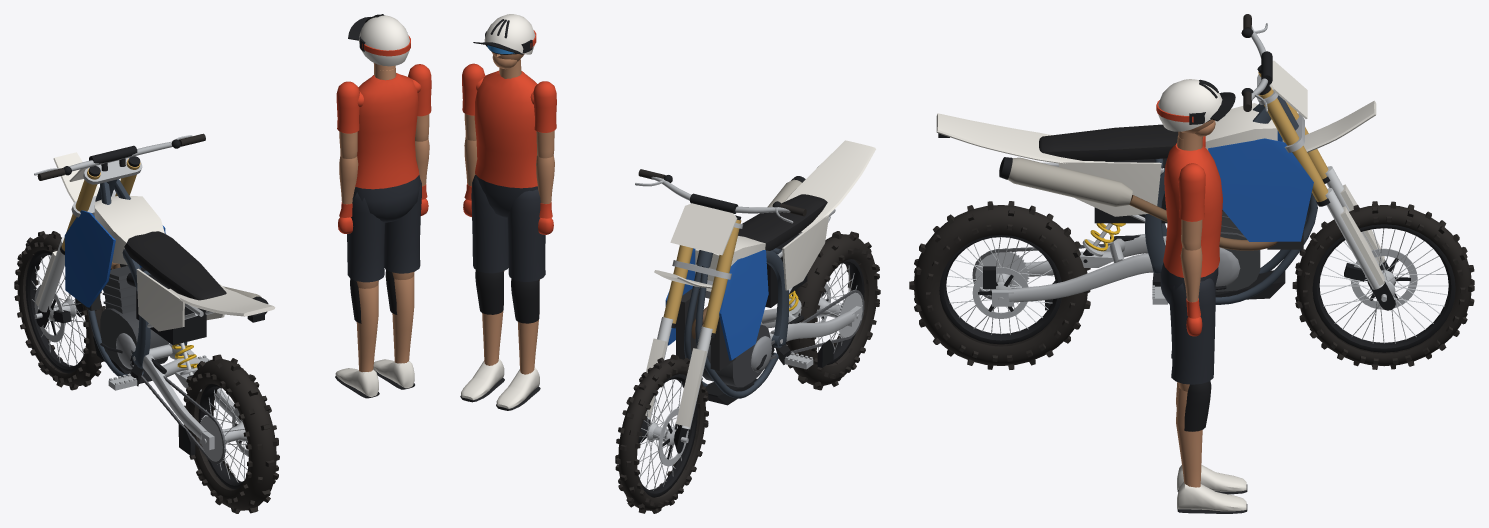
Rendered from moto.glb.
3 renders of one model, left to right at view 1: azimuth 30°, elevation 25°; view 2: azimuth 150°, elevation 25°; view 3: azimuth 270°, elevation 25°, orthographic. The views are drawn at different scales.
Parts seen in each view (by area): view 1: frame, wheel_rear, r_torso, wheel_front, steer, swingarm, r_thigh_l, r_head, r_thigh_r, r_shin_r, r_shin_l, r_upperarm_l (+8 smaller); view 2: frame, wheel_front, wheel_rear, r_torso, steer, r_thigh_l, fork_lowers, r_thigh_r, r_head, r_shin_l, r_shin_r, swingarm (+7 smaller); view 3: frame, wheel_rear, wheel_front, steer, r_torso, swingarm, r_thigh_r, r_head, fork_lowers, r_shin_r, r_upperarm_r, r_foot_r (+3 smaller).
Boxes of the visible parts, bbox=[...] form: frame: bbox=[64, 179, 275, 386]; wheel_rear: bbox=[183, 354, 279, 513]; r_torso: bbox=[353, 67, 421, 222]; wheel_front: bbox=[14, 231, 105, 390]; steer: bbox=[34, 133, 205, 254]; swingarm: bbox=[142, 343, 240, 455]; r_thigh_l: bbox=[347, 192, 385, 288]; r_head: bbox=[348, 14, 410, 78]; r_thigh_r: bbox=[384, 177, 421, 279]; r_shin_r: bbox=[385, 270, 414, 363]; r_shin_l: bbox=[350, 278, 378, 372]; r_upperarm_l: bbox=[336, 81, 359, 158]; frame: bbox=[665, 140, 875, 405]; wheel_front: bbox=[615, 354, 708, 513]; wheel_rear: bbox=[786, 231, 880, 390]; r_torso: bbox=[474, 70, 537, 218]; steer: bbox=[635, 169, 806, 337]; r_thigh_l: bbox=[507, 189, 545, 281]; fork_lowers: bbox=[638, 317, 712, 453]; r_thigh_r: bbox=[471, 175, 508, 273]; r_head: bbox=[473, 14, 536, 78]; r_shin_l: bbox=[511, 278, 539, 374]; r_shin_r: bbox=[475, 270, 503, 365]; swingarm: bbox=[760, 290, 861, 367]; frame: bbox=[936, 95, 1317, 304]; wheel_rear: bbox=[909, 201, 1090, 369]; wheel_front: bbox=[1292, 201, 1474, 369]; steer: bbox=[1241, 14, 1376, 206]; r_torso: bbox=[1160, 135, 1222, 303]; swingarm: bbox=[983, 234, 1166, 310]; r_thigh_r: bbox=[1169, 278, 1215, 391]; r_head: bbox=[1156, 79, 1235, 150]; fork_lowers: bbox=[1325, 166, 1395, 310]; r_shin_r: bbox=[1176, 381, 1211, 487]; r_upperarm_r: bbox=[1178, 163, 1205, 250]; r_foot_r: bbox=[1177, 482, 1247, 513].
Size of the model in its own units: 1.85 by 1.79 by 2.19.
